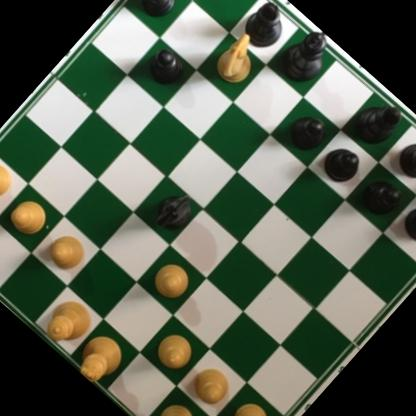black-bishop: (345, 87, 409, 151), (235, 0, 297, 58)
black-king: (272, 21, 341, 91)
black-knight: (146, 184, 202, 240), (391, 124, 416, 189)
black-pawn: (280, 105, 334, 160), (314, 136, 368, 191), (355, 170, 408, 224), (140, 42, 190, 93), (131, 0, 184, 26), (395, 197, 416, 253)
white-king: (68, 326, 132, 390)
white-knight: (208, 24, 272, 90), (144, 395, 205, 416)
white-pawn: (2, 190, 56, 243), (41, 226, 94, 278), (185, 359, 237, 412), (148, 322, 200, 374), (145, 256, 197, 307), (223, 387, 282, 416), (0, 151, 21, 204)
white-queen: (34, 288, 100, 355)
